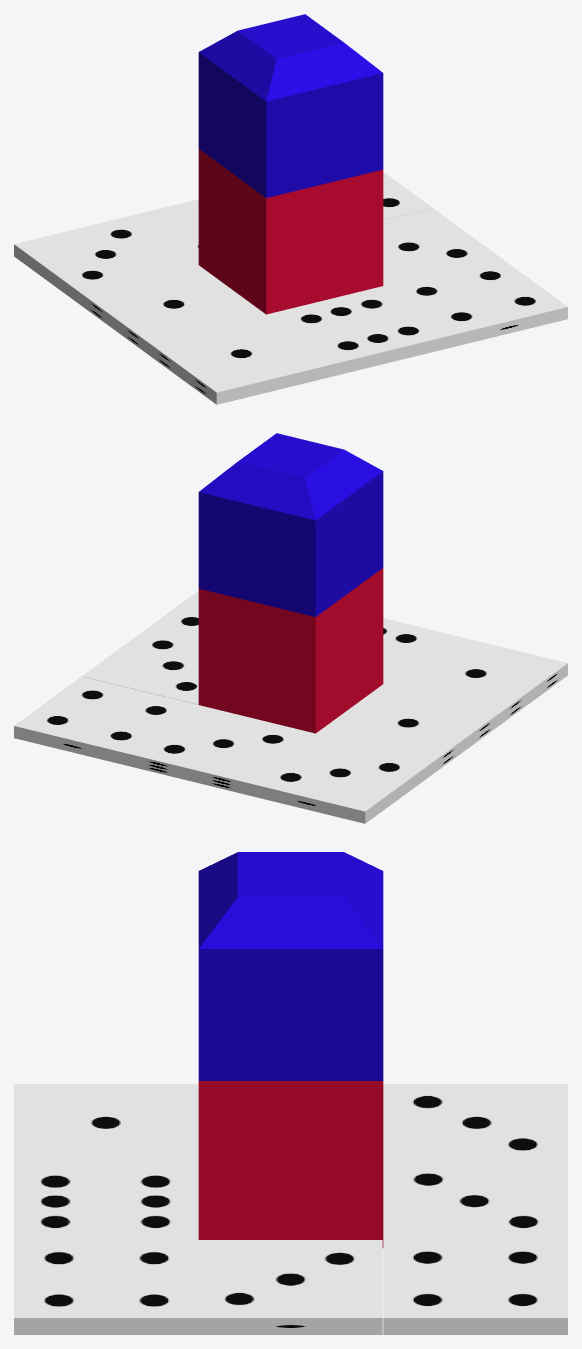
Rendered from blocks_4.glb.
The picture shows the model from 3 angles, top to bottom: view 1: azimuth 30°, elevation 25°; view 2: azimuth 150°, elevation 25°; view 3: azimuth 270°, elevation 25°; orthographic projection. The views are drawn at different scales.
Parts seen in each view (by area): view 1: Cube.009, Cube.008, Cube, Cube.001, Cube.002, Cube.005, Cube.004, Cube.006, Cube.003, Cube.007; view 2: Cube.009, Cube.008, Cube.004, Cube.003, Cube.007, Cube.005, Cube, Cube.006, Cube.001, Cube.002; view 3: Cube.009, Cube.008, Cube.006, Cube.007, Cube.002, Cube, Cube.001, Cube.003, Cube.004.
Part boxes in pixels (bbox=[...]): Cube.009: bbox=[198, 14, 383, 197]; Cube.008: bbox=[198, 149, 383, 314]; Cube: bbox=[149, 314, 333, 404]; Cube.001: bbox=[266, 286, 450, 375]; Cube.002: bbox=[384, 257, 567, 347]; Cube.005: bbox=[81, 265, 265, 354]; Cube.004: bbox=[14, 215, 197, 305]; Cube.006: bbox=[383, 208, 499, 285]; Cube.003: bbox=[131, 199, 198, 264]; Cube.007: bbox=[383, 172, 432, 219]; Cube.009: bbox=[198, 433, 383, 616]; Cube.008: bbox=[198, 568, 383, 733]; Cube.004: bbox=[248, 733, 432, 823]; Cube.003: bbox=[131, 705, 315, 794]; Cube.007: bbox=[14, 676, 197, 766]; Cube.005: bbox=[316, 684, 500, 773]; Cube: bbox=[384, 634, 567, 724]; Cube.006: bbox=[82, 627, 198, 704]; Cube.001: bbox=[383, 618, 450, 683]; Cube.002: bbox=[149, 591, 198, 638]; Cube.009: bbox=[198, 852, 383, 1080]; Cube.008: bbox=[198, 1081, 383, 1247]; Cube.006: bbox=[198, 1240, 382, 1334]; Cube.007: bbox=[383, 1240, 567, 1334]; Cube.002: bbox=[14, 1240, 198, 1334]; Cube: bbox=[14, 1084, 198, 1161]; Cube.001: bbox=[14, 1162, 198, 1239]; Cube.003: bbox=[383, 1162, 567, 1239]; Cube.004: bbox=[383, 1084, 567, 1161].
Size of the model in its own units: 6 by 4.1 by 6.
3 materials, 1 textured.
